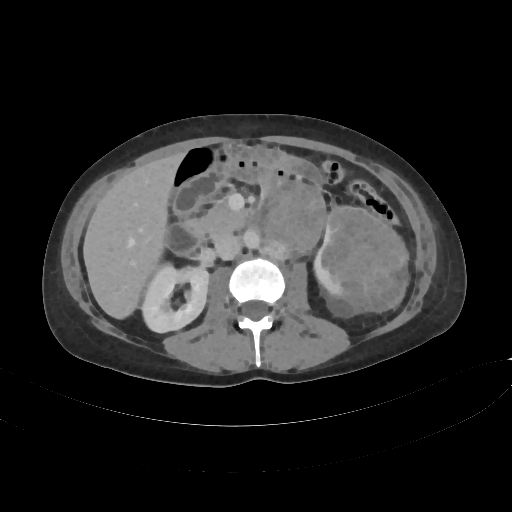Lesion: (317, 210, 410, 291)
